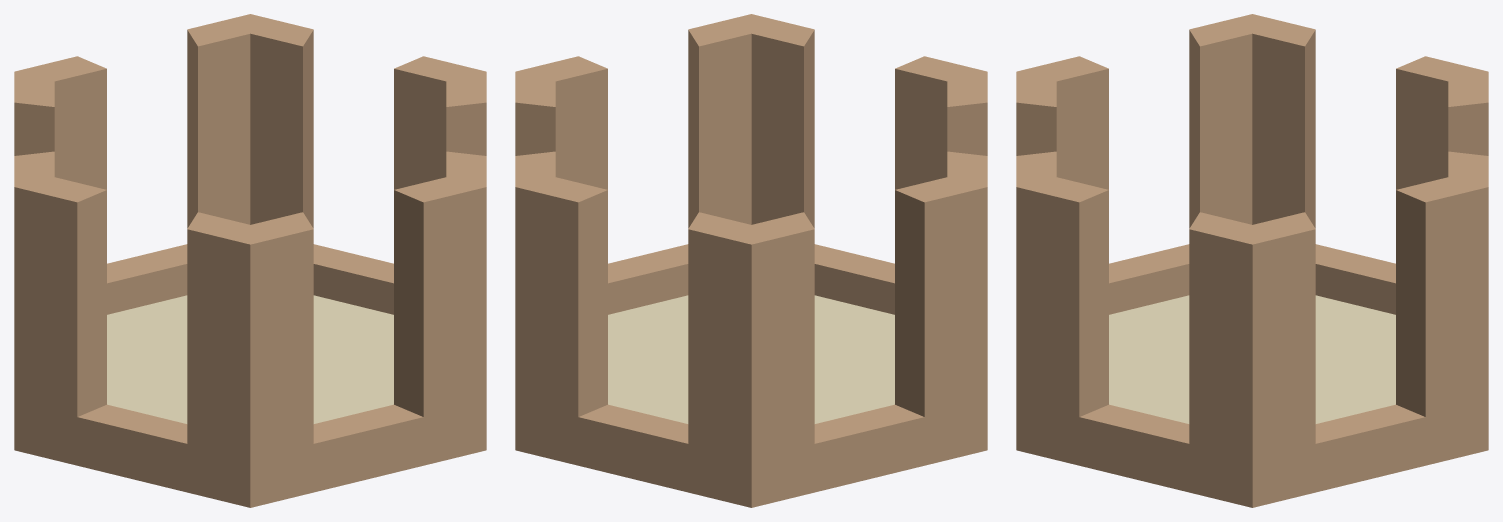
The model's file is towerHexagonTopWood_exclusive.fbx.
3 views of the same model, side by side, from view 1: azimuth 30°, elevation 25°; view 2: azimuth 150°, elevation 25°; view 3: azimuth 270°, elevation 25° (orthographic).
Parts seen in each view (by area): view 1: towerHexagonTopWood_exclusive; view 2: towerHexagonTopWood_exclusive; view 3: towerHexagonTopWood_exclusive.
Boxes of the visible parts, x1,y1,x2,y2 form: towerHexagonTopWood_exclusive: (14,14,486,507); towerHexagonTopWood_exclusive: (515,14,987,507); towerHexagonTopWood_exclusive: (1016,14,1488,507).
Bounding box in the file's own units: 8.64 × 4.6 × 7.48.
